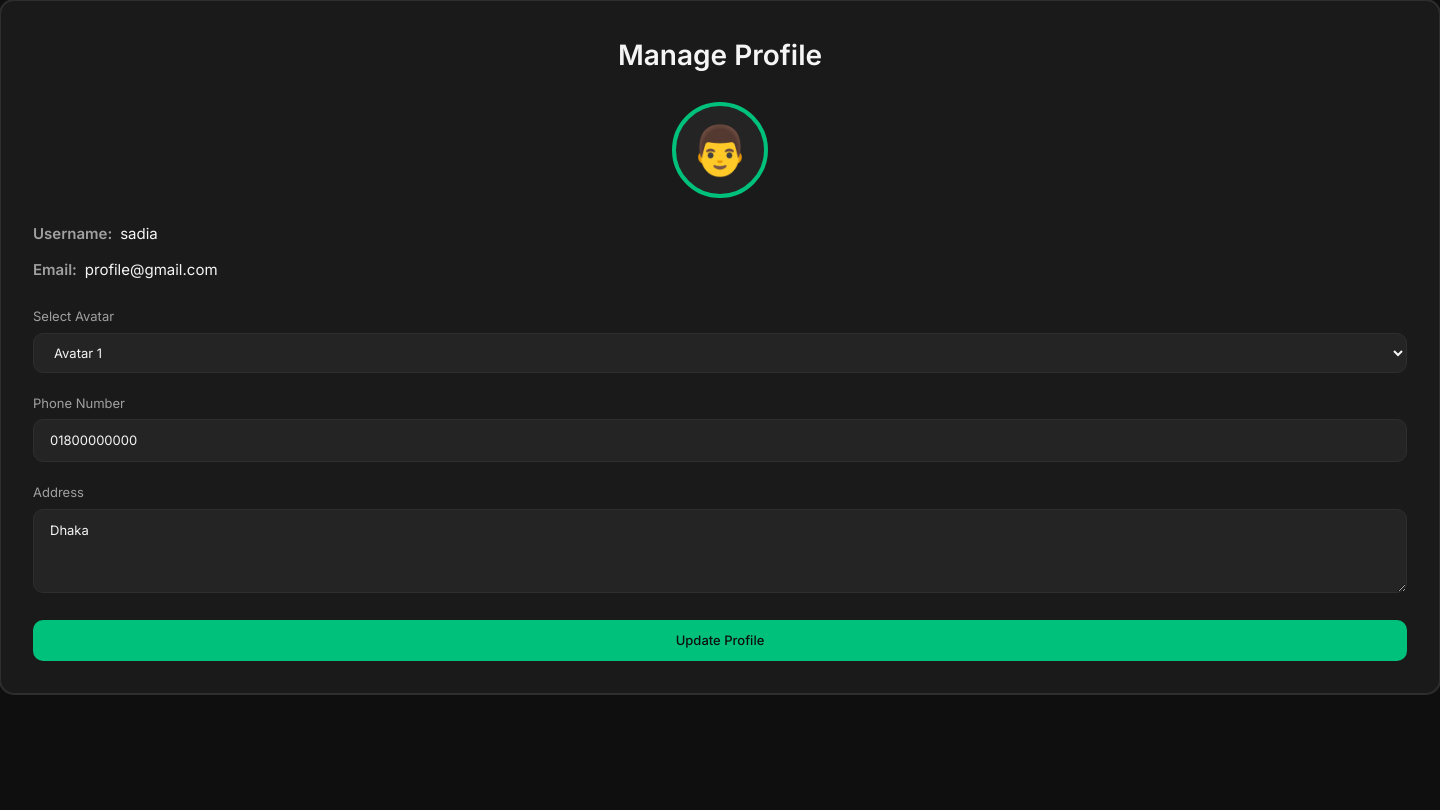
Test case: update button submits profile data
The image size is (1440, 810).
Click the button "Update Profile". click: [720, 641]
box: [33, 620, 1407, 661]
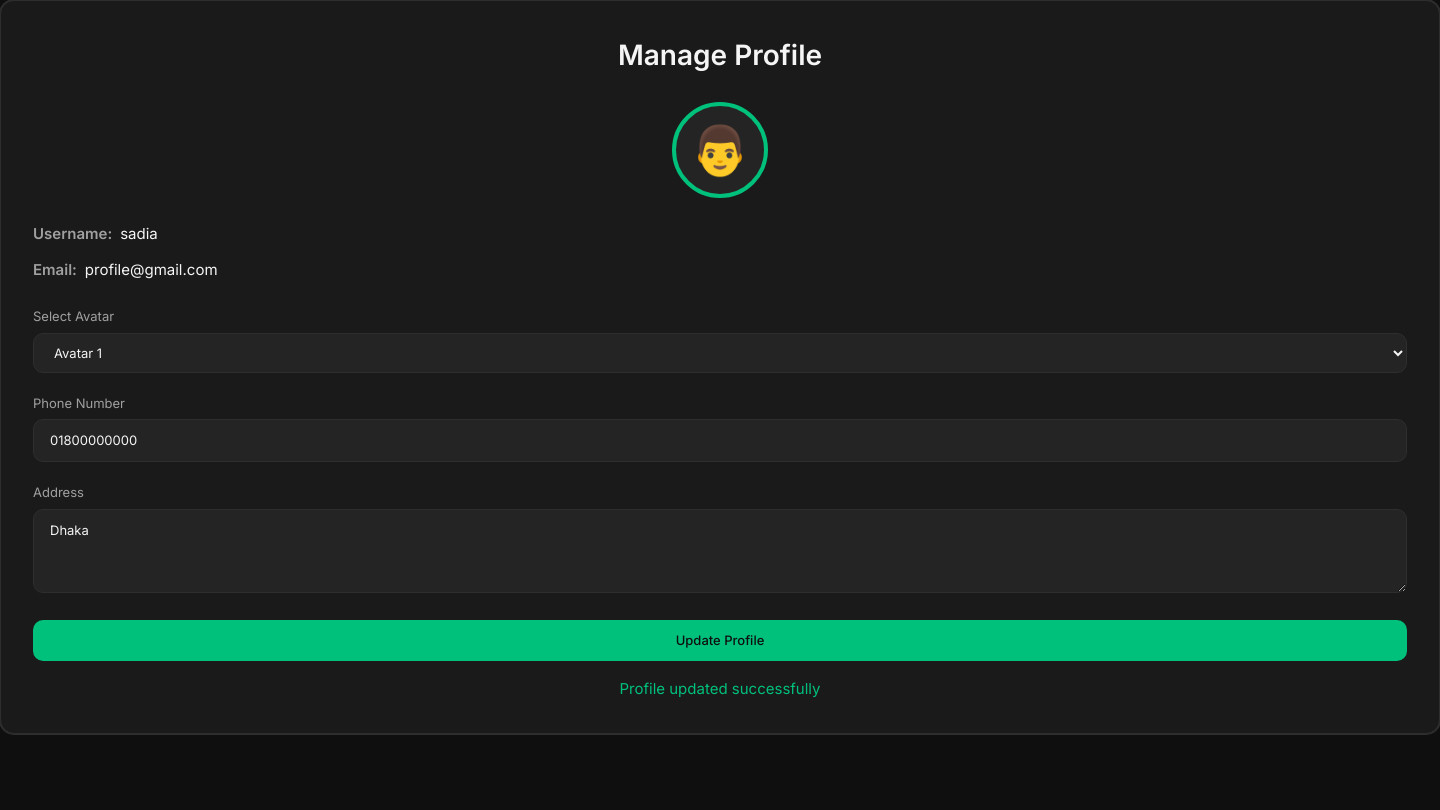
Result: the text "Profile updated successfully" is shown at [620, 679, 820, 698]
